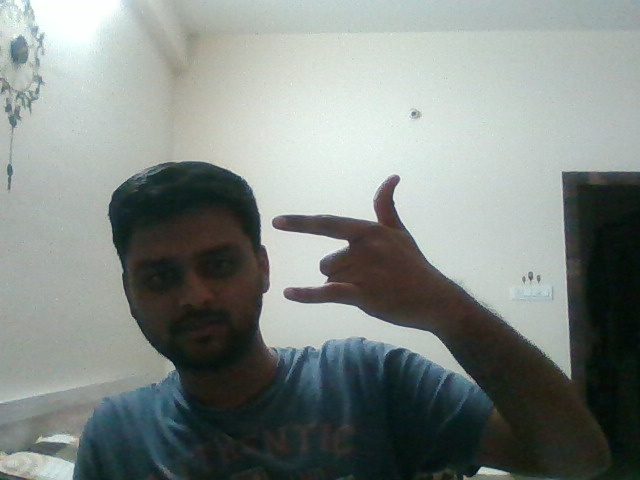haila: (269, 162, 475, 342)
